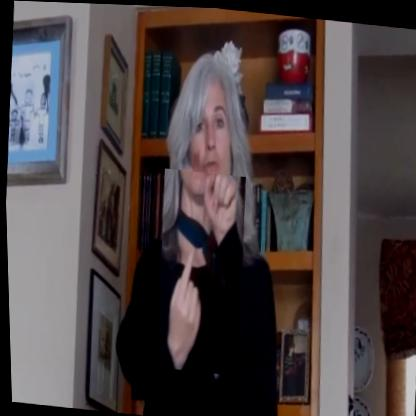NiceToMeetYou: (150, 166, 250, 375)
